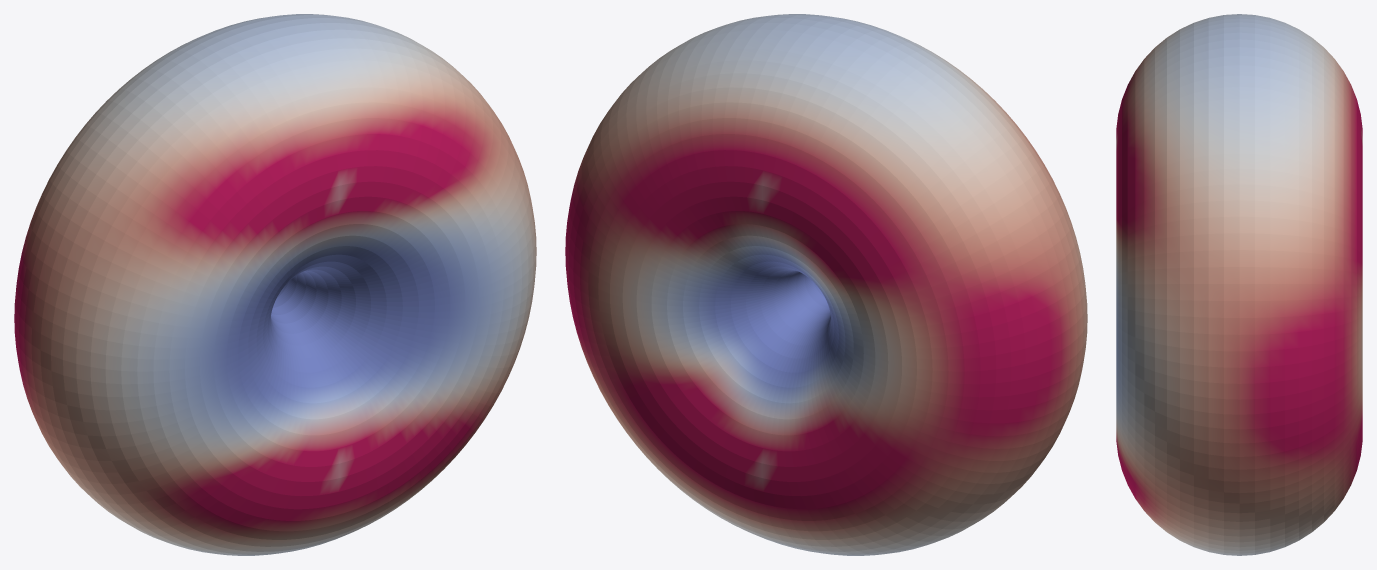
3 views of the same model, side by side, from view 1: azimuth 30°, elevation 25°; view 2: azimuth 150°, elevation 25°; view 3: azimuth 270°, elevation 25° (orthographic). The views are drawn at different scales.
Visible parts, largest first — view 1: world; view 2: world; view 3: world.
Boxes of the visible parts, box(x1,y1,x2,y2) form: world: box(14, 14, 536, 555); world: box(565, 14, 1087, 555); world: box(1116, 14, 1362, 555).
Size of the model in its own units: 19.6 by 19.6 by 8.92.
